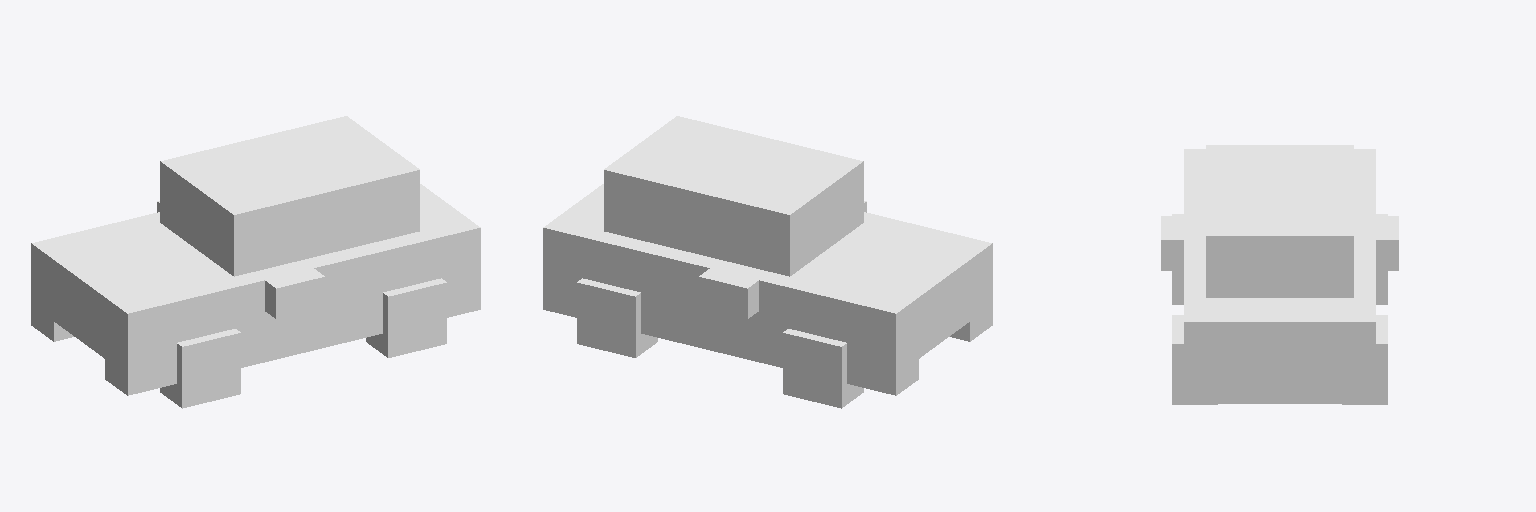
Rendered from car_purple.obj.
3 views of the same model, side by side, from view 1: azimuth 30°, elevation 25°; view 2: azimuth 150°, elevation 25°; view 3: azimuth 270°, elevation 25° (orthographic).
Visible parts, largest first — view 1: object 1; view 2: object 1; view 3: object 1.
Boxes of the visible parts, box(x1,y1,x2,y2) form: object 1: box(31, 116, 480, 408); object 1: box(543, 116, 992, 408); object 1: box(1161, 145, 1398, 404).
Bounding box in the file's own units: 3.6 × 1.6 × 2.1.